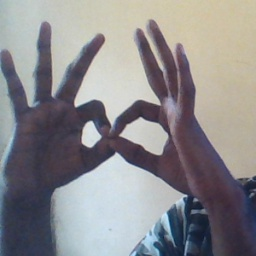B: (57, 77, 176, 178)
